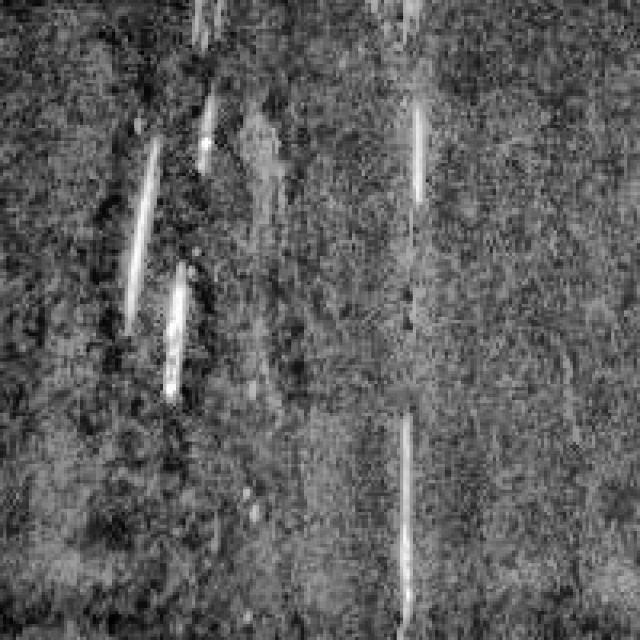Inclusion: (112, 112, 211, 339), (378, 404, 422, 630), (144, 243, 198, 403), (397, 86, 432, 215)
